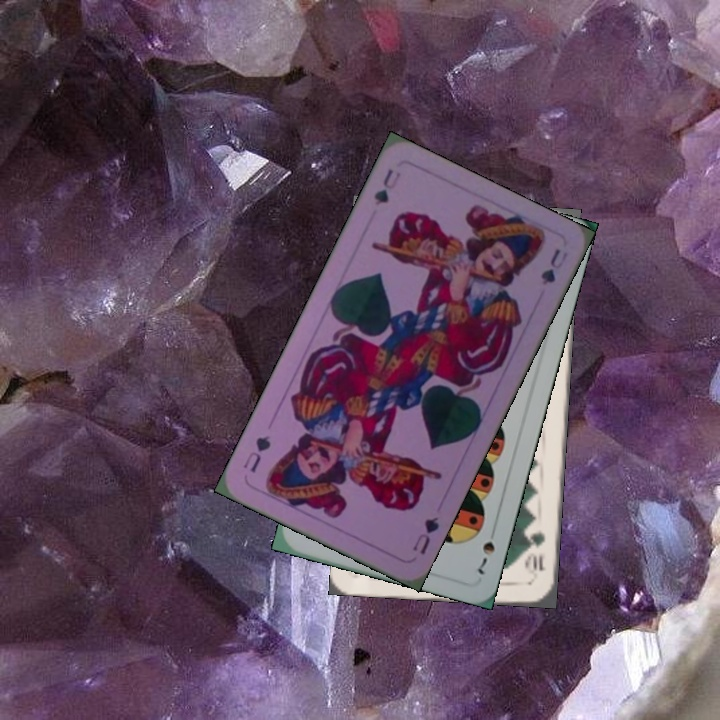G10: (524, 527, 547, 581)
GU: (408, 512, 442, 557), (370, 164, 404, 208)
S7: (473, 537, 498, 578)
